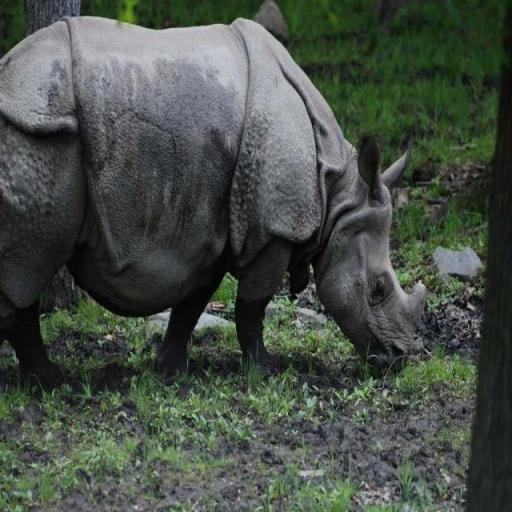Rhino: (0, 13, 427, 387)
